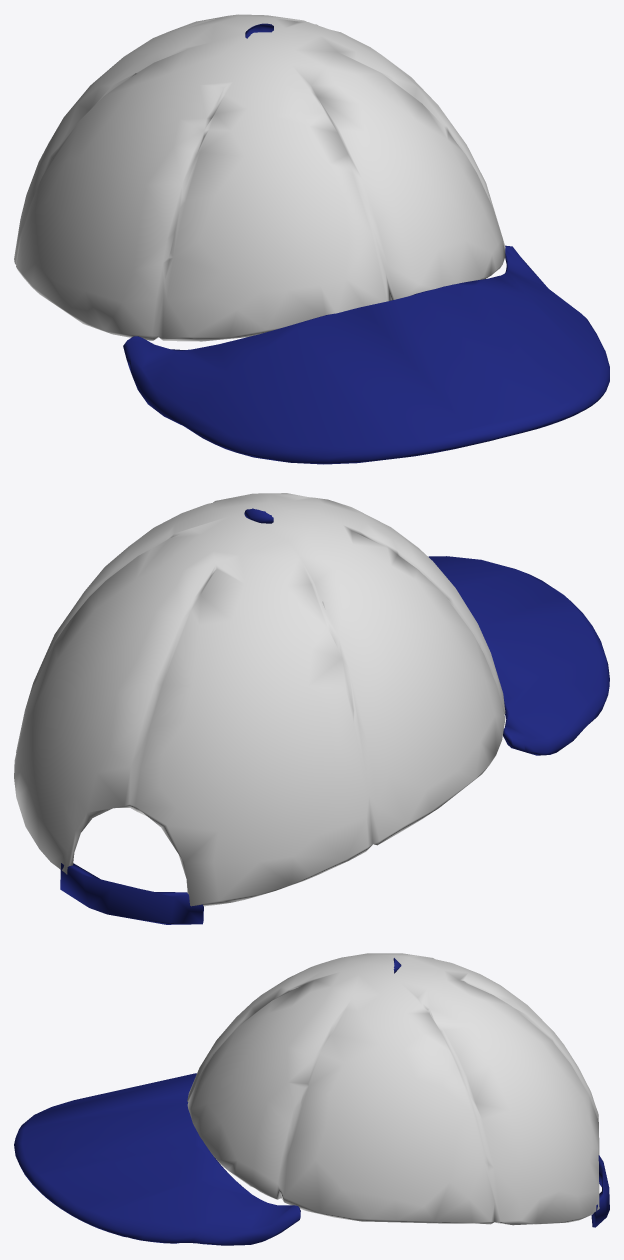
File: hat_cap.glb
3 views of the same model, one above another, from view 1: azimuth 30°, elevation 25°; view 2: azimuth 150°, elevation 25°; view 3: azimuth 270°, elevation 25° (orthographic). The views are drawn at different scales.
Visible parts, largest first — view 1: hat_cap_0_primary, hat_cap_1_secondary; view 2: hat_cap_0_primary, hat_cap_1_secondary, hat_cap_2_secondary; view 3: hat_cap_0_primary, hat_cap_1_secondary, hat_cap_2_secondary.
Boxes of the visible parts, <box> form: hat_cap_0_primary: <box>14,14,505,341</box>; hat_cap_1_secondary: <box>123,245,609,464</box>; hat_cap_0_primary: <box>14,493,505,906</box>; hat_cap_1_secondary: <box>428,556,609,755</box>; hat_cap_2_secondary: <box>60,508,273,924</box>; hat_cap_0_primary: <box>187,953,599,1225</box>; hat_cap_1_secondary: <box>14,1073,300,1245</box>; hat_cap_2_secondary: <box>393,958,609,1227</box>.
Size of the model in its own units: 0.2037 by 0.146 by 0.3233.
